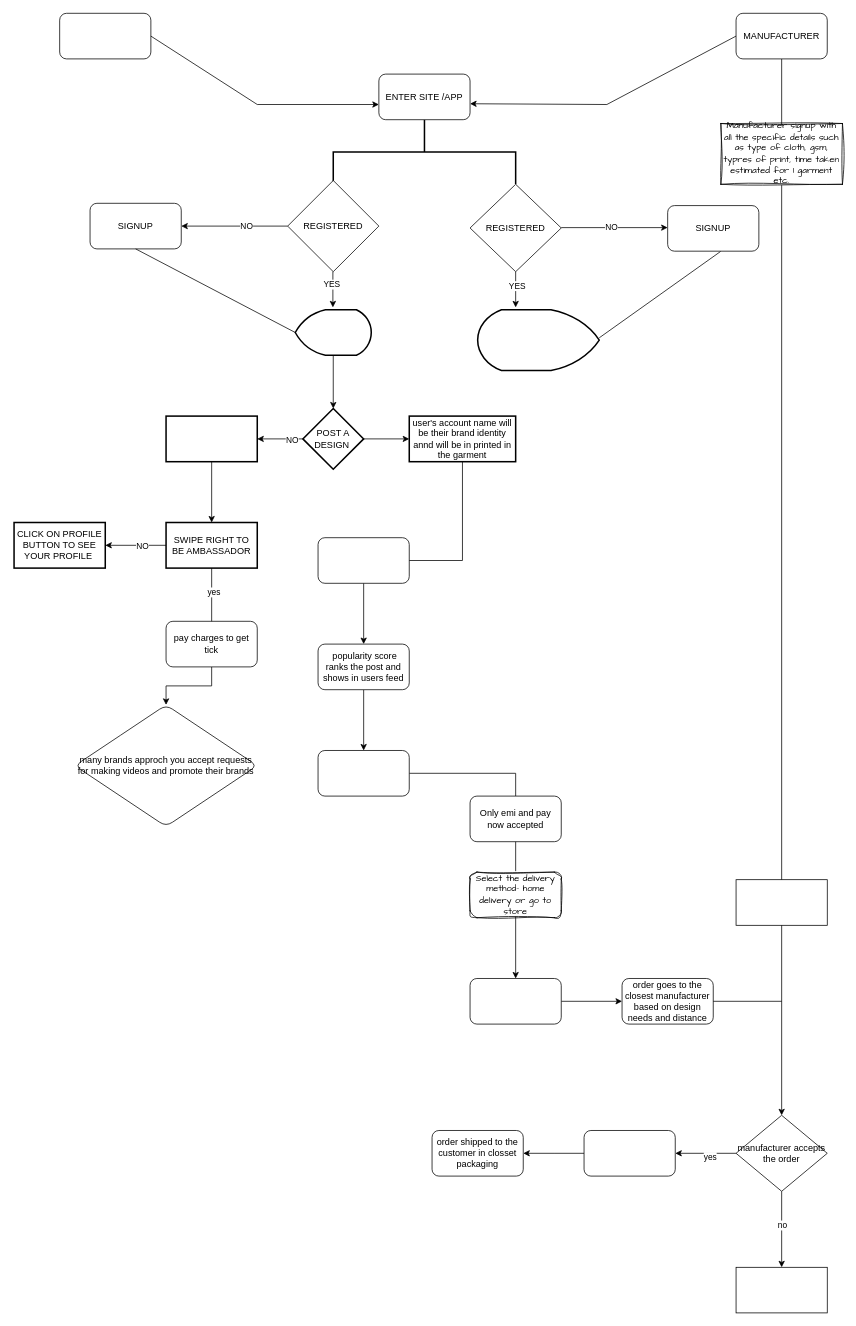
Image size: 856x1326. Some labels were removed from this diagram. Each missing label, with the centre of its shape:
"dynamic manufacturer segregation" belongs at point (515, 1001).
"dynamic pricing algorithm" belongs at point (363, 560).
"MANUFACTURER HOME PAGE" belongs at point (538, 340).
"Manufacturer's screen" belongs at point (781, 902).
"order gets manufactured bespoke" belongs at point (629, 1153).
"order goes to other manufacturer according to relevance" belongs at point (781, 1290).
"SWIPE LEFT TO SEE OPEN TO COLLABORATIONS" belongs at point (211, 438).
"USER 1" belongs at point (105, 36).
"User 2 likes the design and buys it" belongs at point (363, 773).
"USER HOME PAGE" belongs at point (333, 332).
